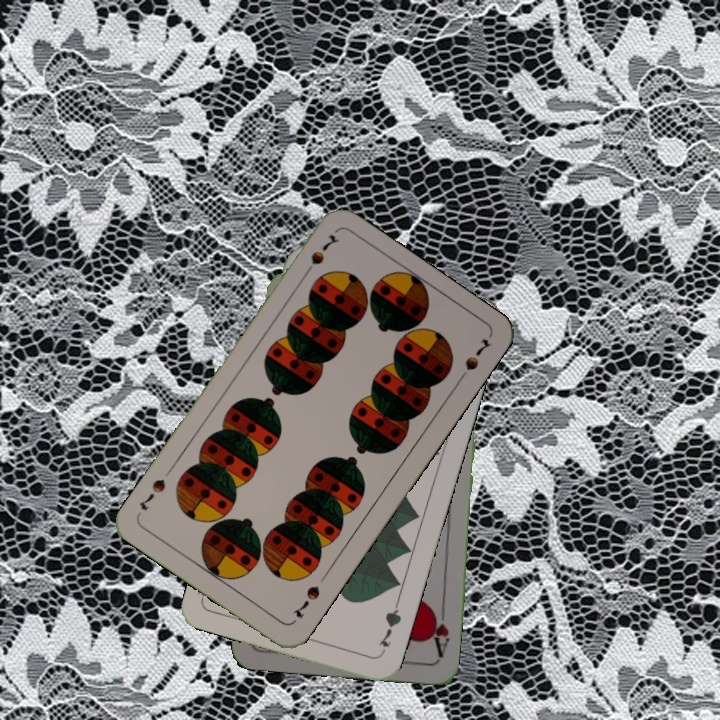G7: (375, 599, 404, 657)
HA: (426, 602, 452, 660)
S7: (298, 230, 342, 280), (289, 581, 323, 622)
